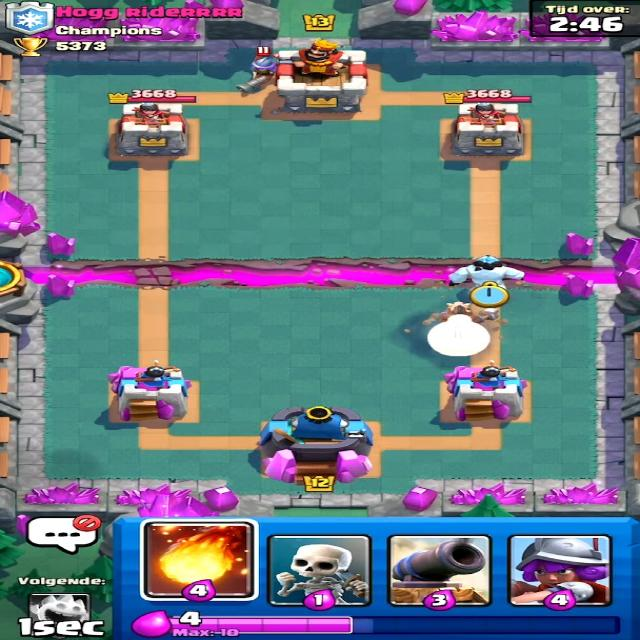Cannon_Card: (386, 528, 491, 610)
Enemy_Musketeer_Troop: (240, 50, 288, 96)
Fireball_Card: (139, 522, 247, 600)
Musketeer_Card: (509, 535, 611, 605)
Skeleton_Card: (262, 528, 372, 604)
